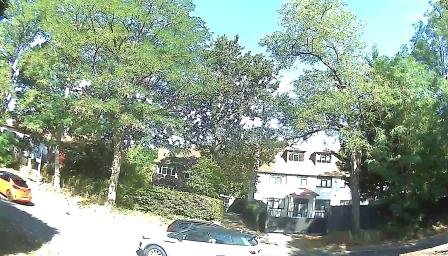Cars: (132, 225, 268, 256), (172, 216, 231, 245), (0, 166, 31, 210)
